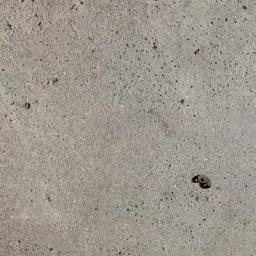FOD: (192, 172, 215, 197)
